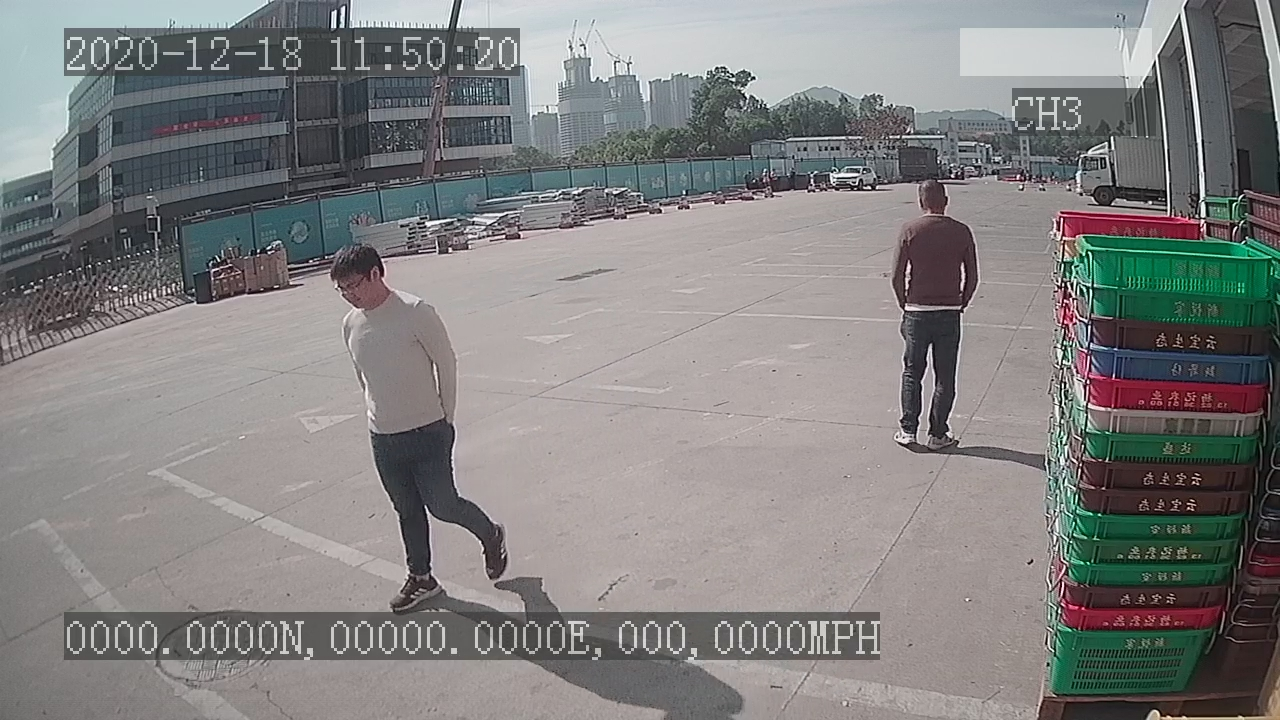person: (329, 238, 511, 610), (886, 176, 983, 456)
